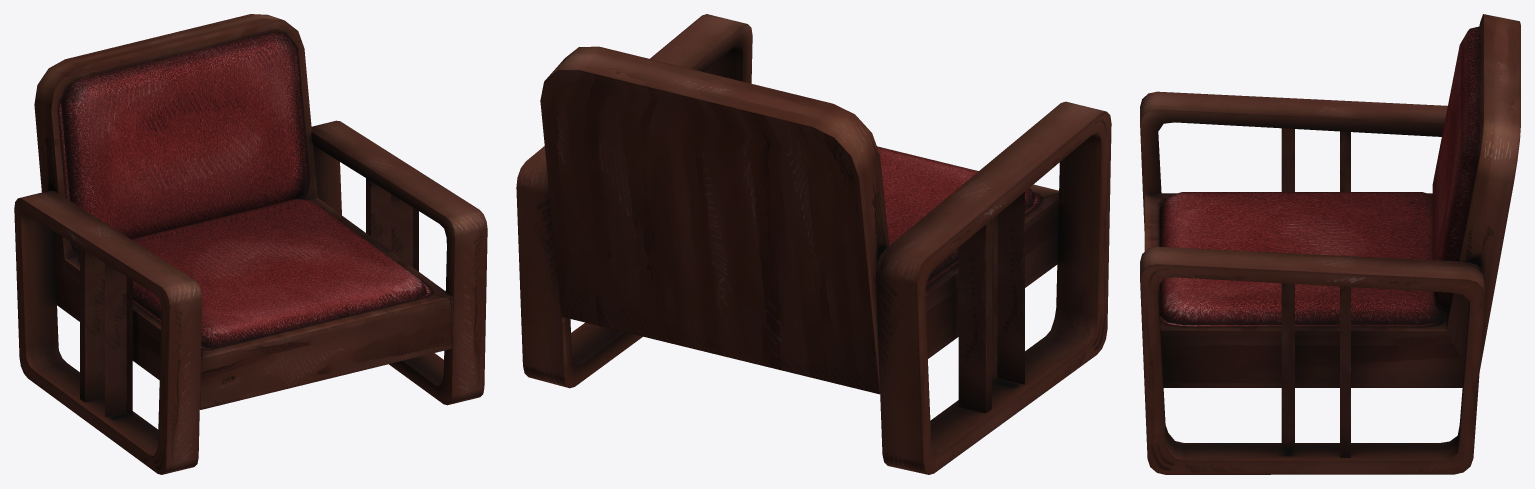
Rendered from chair01.fbx.
3 views of the same model, side by side, from view 1: azimuth 30°, elevation 25°; view 2: azimuth 150°, elevation 25°; view 3: azimuth 270°, elevation 25° (orthographic). The views are drawn at different scales.
Parts seen in each view (by area): view 1: polySurface1671; view 2: polySurface1671; view 3: polySurface1671.
Boxes of the visible parts, x1,y1,x2,y2 form: polySurface1671: [14, 14, 487, 474]; polySurface1671: [516, 14, 1111, 474]; polySurface1671: [1140, 14, 1520, 474].
Size of the model in its own units: 140 by 121 by 130.
